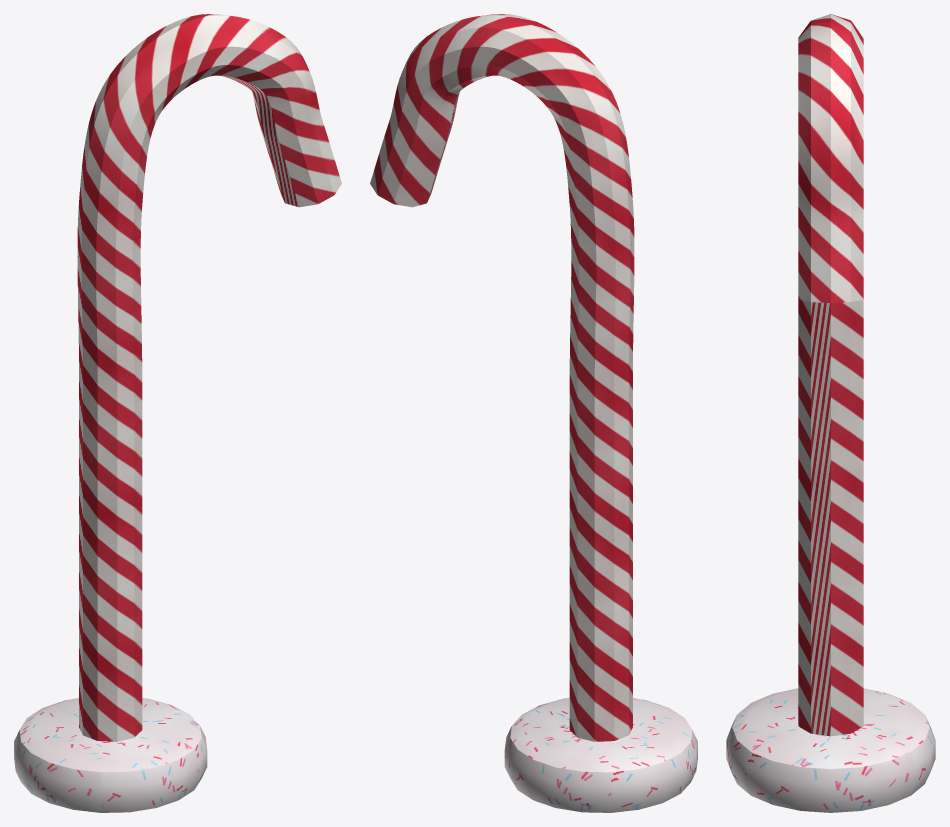
Rendered from GIN_CandyCane.fbx.
3 renders of one model, left to right at view 1: azimuth 30°, elevation 25°; view 2: azimuth 150°, elevation 25°; view 3: azimuth 270°, elevation 25°, orthographic. The views are drawn at different scales.
Visible parts, largest first — view 1: GIN_CandyCane; view 2: GIN_CandyCane; view 3: GIN_CandyCane.
Boxes of the visible parts, x1,y1,x2,y2 form: GIN_CandyCane: (14, 14, 341, 812); GIN_CandyCane: (370, 14, 697, 812); GIN_CandyCane: (726, 14, 935, 812).
Size of the model in its own units: 0.9615 by 2.18 by 0.52.
